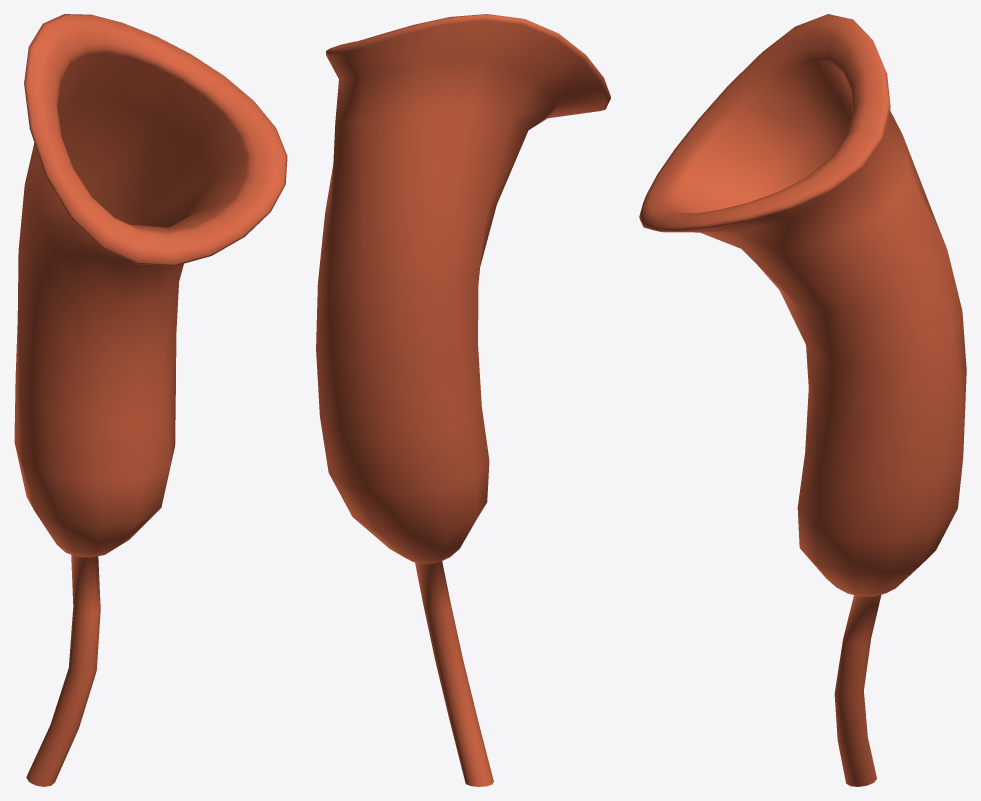
File: MESH_Beach_Props_Plants_04.fbx
3 views of the same model, side by side, from view 1: azimuth 30°, elevation 25°; view 2: azimuth 150°, elevation 25°; view 3: azimuth 270°, elevation 25° (orthographic).
Parts seen in each view (by area): view 1: MESH_Beach_Props_Plants_04; view 2: MESH_Beach_Props_Plants_04; view 3: MESH_Beach_Props_Plants_04.
Part boxes in pixels (box(x1,y1,x2,y2)): MESH_Beach_Props_Plants_04: box(14, 14, 287, 786); MESH_Beach_Props_Plants_04: box(316, 14, 610, 786); MESH_Beach_Props_Plants_04: box(639, 14, 966, 786).
Bounding box in the file's own units: 2 × 6.08 × 2.37.
